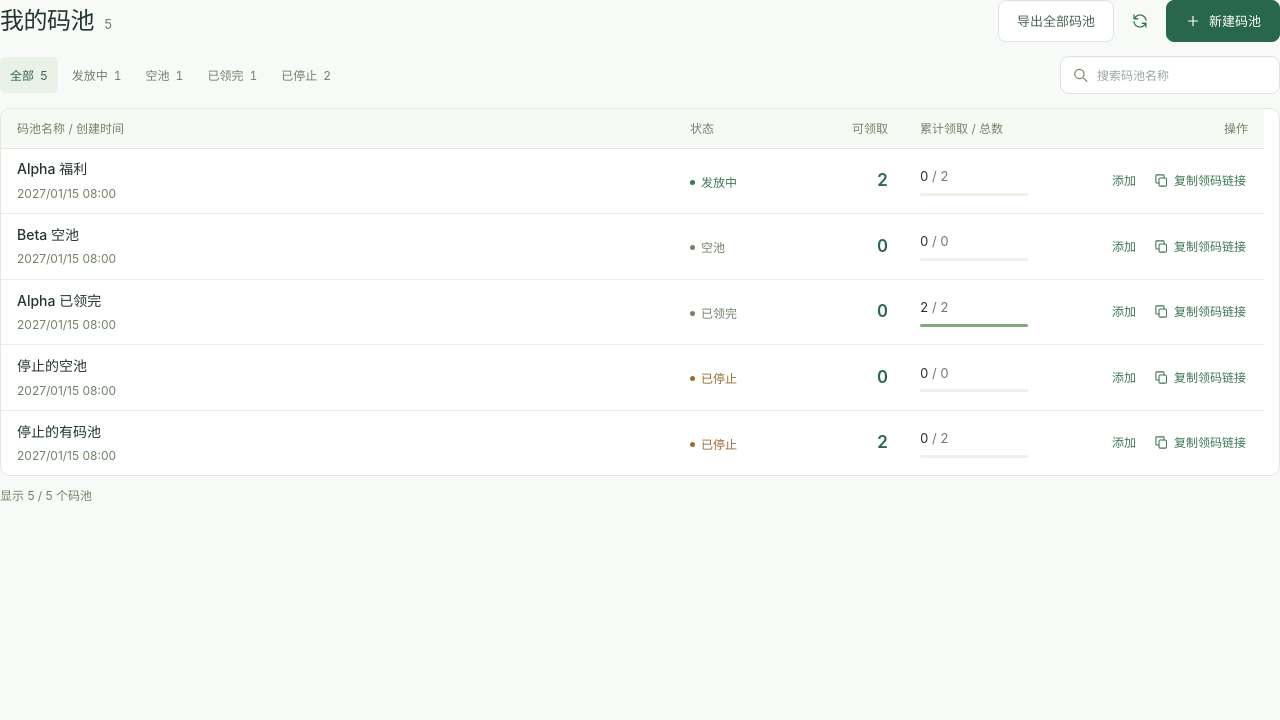
Scenario: all-pool export ignores list search and defaults to every code status
The image size is (1280, 720).
Step 1. Type "no match" into the search field labelled "搜索码池名称" → coordinates (1170, 75), box [1060,56,1279,94]
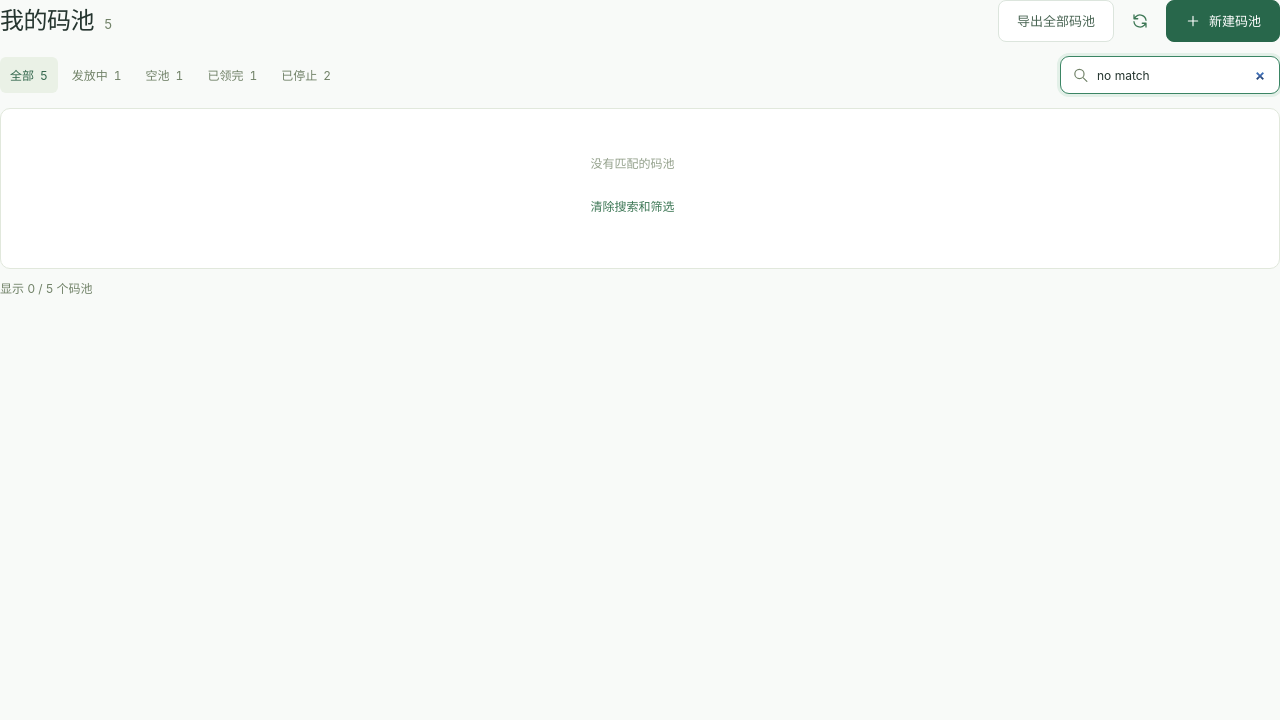
Step 2. Click the button "导出全部码池" → coordinates (1056, 21), box [998,0,1114,42]
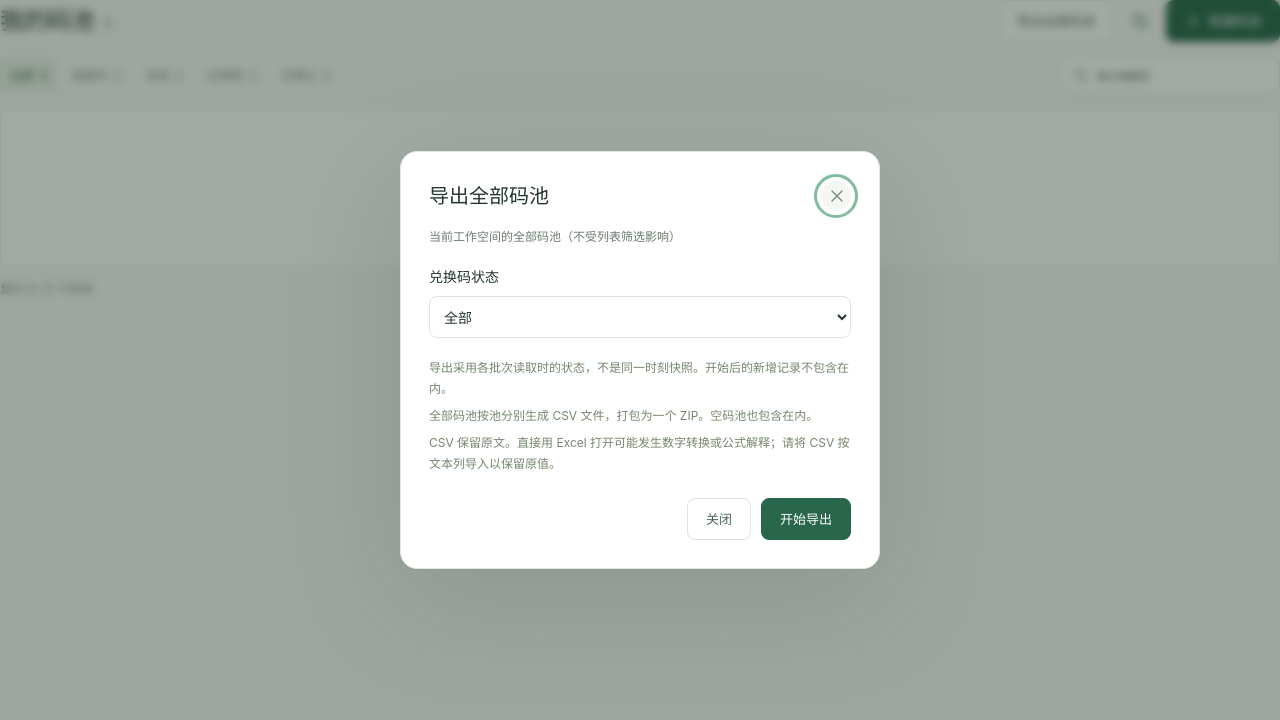
Expected: the text "当前工作空间的全部码池（不受列表筛选影响）" is shown, [429,229,681,244]
Expected: the dropdown labelled "兑换码状态" shows "全部", [429,296,851,338]
Expected: the text "CSV 保留原文。直接用 Excel 打开可能发生数字转换或公式解释；请将 CSV 按文本列导入以保留原值。" is shown, [429,433,851,474]
